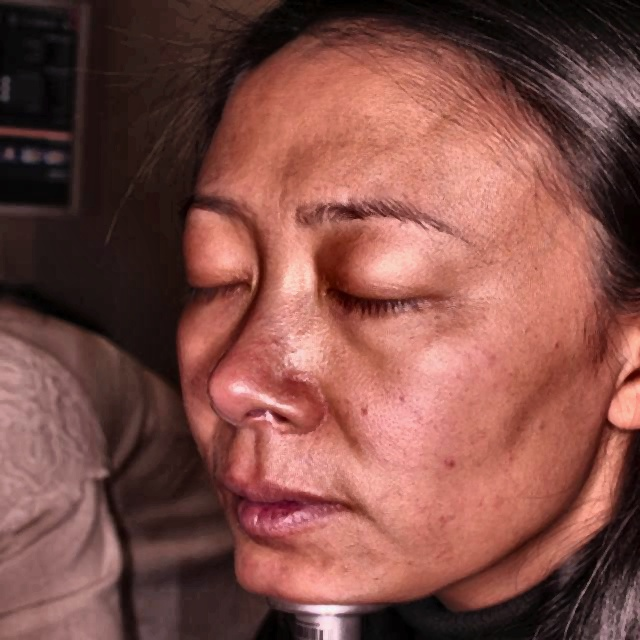comedone: (440, 449, 456, 476)
